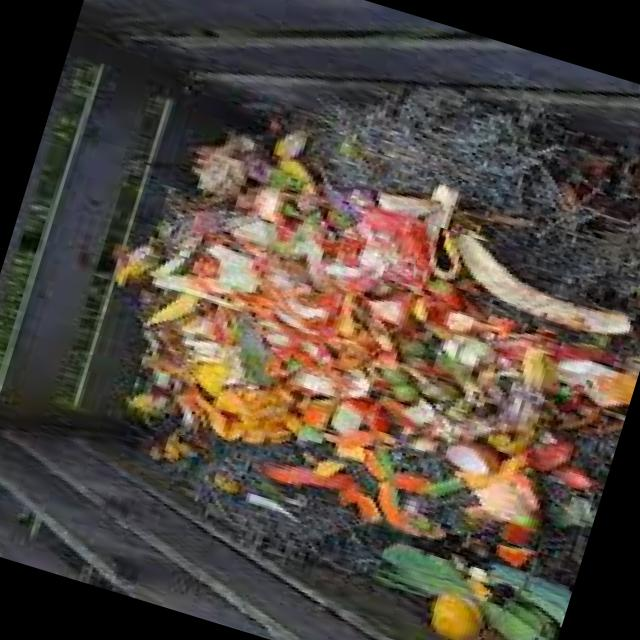Organic: (105, 99, 640, 561), (410, 222, 640, 351), (367, 507, 580, 640), (141, 423, 199, 468), (206, 466, 236, 489)
